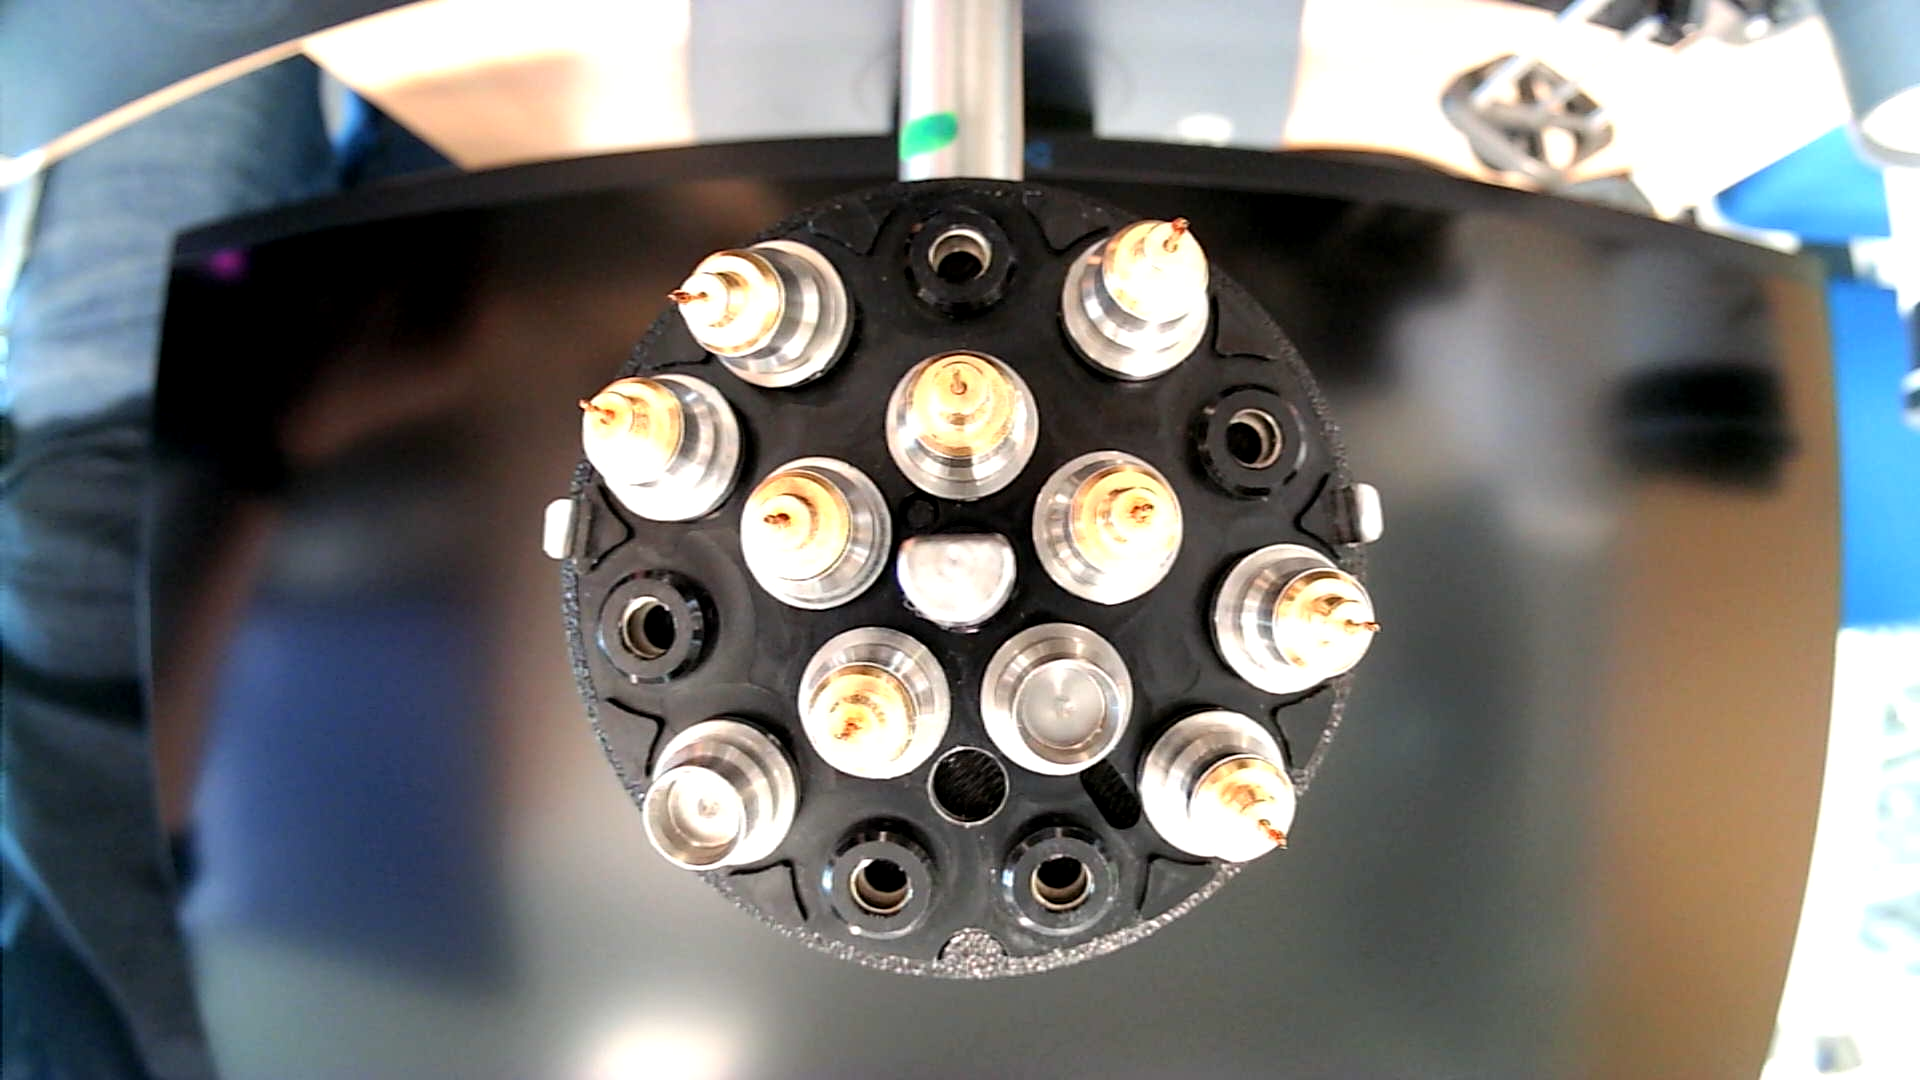adapter: (638, 716, 796, 876), (978, 622, 1133, 781)
empty: (815, 811, 949, 949), (589, 563, 725, 694), (1176, 380, 1315, 506), (996, 812, 1125, 945), (890, 202, 1025, 326)
hole: (928, 744, 1011, 829)
misplaced: (665, 240, 855, 392)
pin: (1207, 546, 1379, 703), (578, 364, 746, 522), (1064, 214, 1215, 385), (1135, 709, 1296, 868), (884, 345, 1044, 502), (793, 624, 952, 781), (738, 451, 893, 611), (1030, 448, 1184, 607)
rod: (895, 527, 1021, 637)
